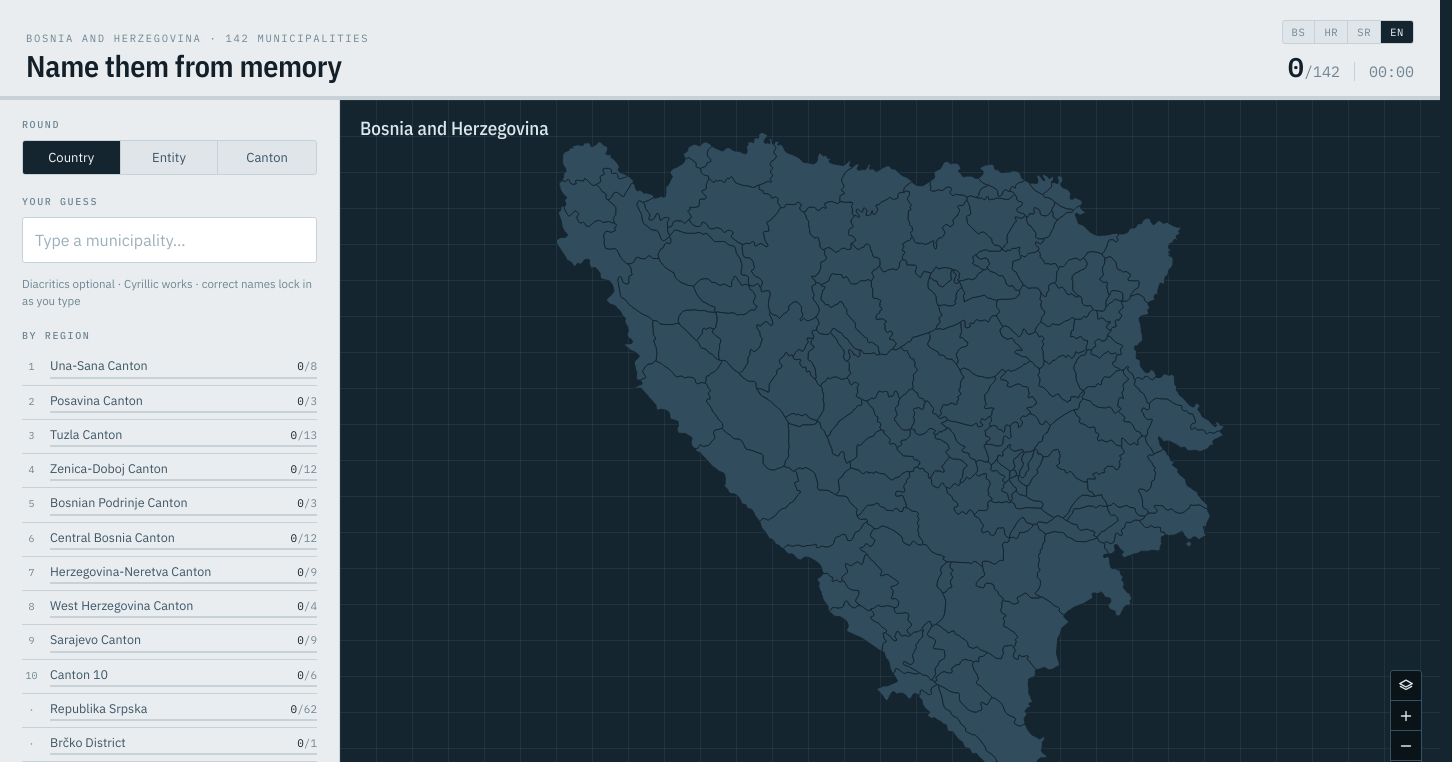
it: switching language in the app › translates the scope name on the map
Click the button with aria-label "Српски" at (1365, 32), box [1348,21,1381,43]
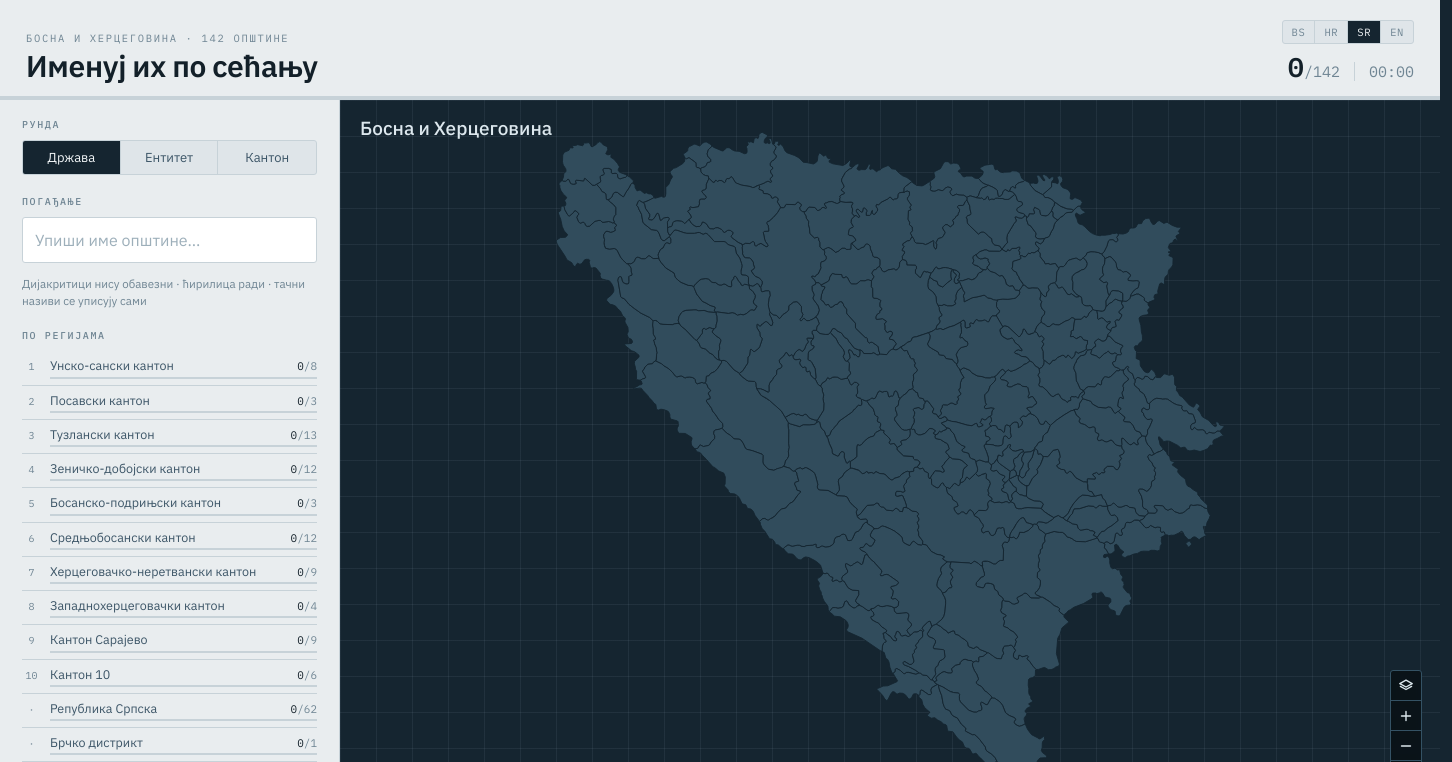
Check: the text "Босна и Херцеговина" is shown, box [360,116,552,140]
